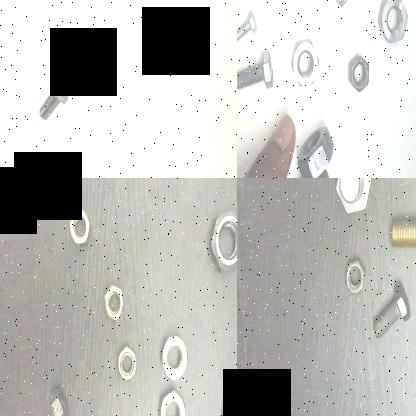Bolts: (366, 282, 416, 342), (330, 178, 378, 228), (237, 48, 275, 109), (383, 199, 416, 263), (31, 74, 68, 121), (237, 8, 259, 62)
NUTS: (288, 33, 320, 102), (207, 207, 237, 275), (374, 0, 410, 50), (339, 253, 372, 307), (160, 332, 190, 388), (345, 48, 372, 101), (64, 206, 92, 254), (113, 340, 142, 382), (102, 282, 126, 323), (46, 379, 72, 416), (158, 388, 187, 416), (220, 389, 237, 416), (322, 0, 352, 14)
